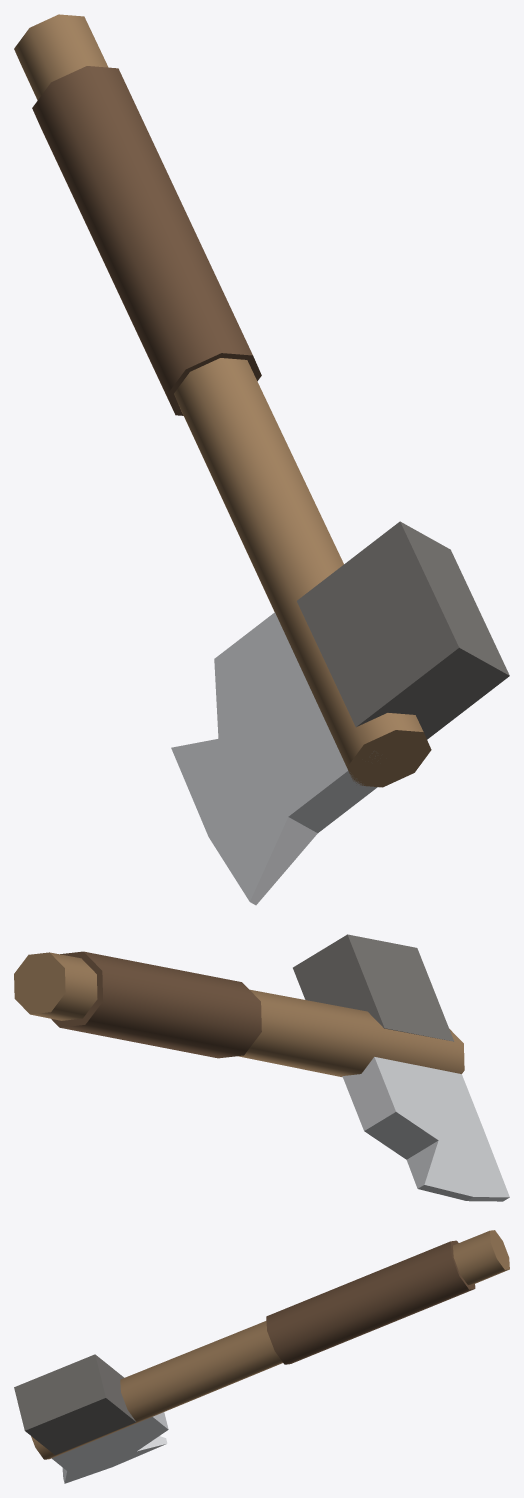
Rendered from wpn_handaxe.glb.
3 renders of one model, top to bottom at view 1: azimuth 30°, elevation 25°; view 2: azimuth 150°, elevation 25°; view 3: azimuth 270°, elevation 25°, orthographic. The views are drawn at different scales.
Parts seen in each view (by area): view 1: wpn_handaxe; view 2: wpn_handaxe; view 3: wpn_handaxe.
Boxes of the visible parts, x1,y1,x2,y2 form: wpn_handaxe: [14, 14, 509, 905]; wpn_handaxe: [14, 934, 509, 1201]; wpn_handaxe: [14, 1230, 509, 1483].
Size of the model in its own units: 0.0729 by 0.1617 by 0.2387.
